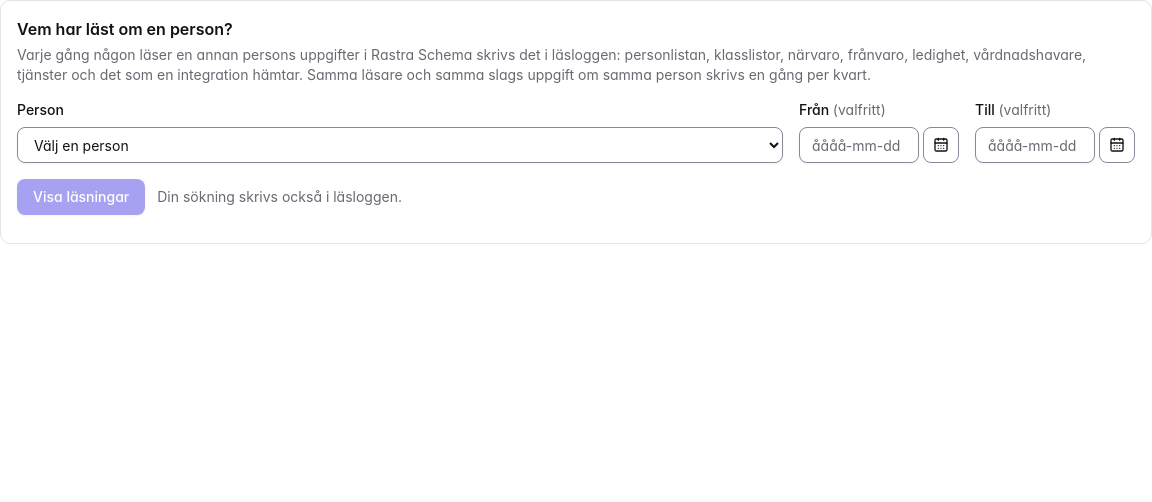
Test: Vem har läst om en person? › announces only the sentence: the table is outside the live region
Select "Ek, Ada" in the dropdown labelled "Person": [400, 145] box top-left (17, 127), bottom-right (783, 163)
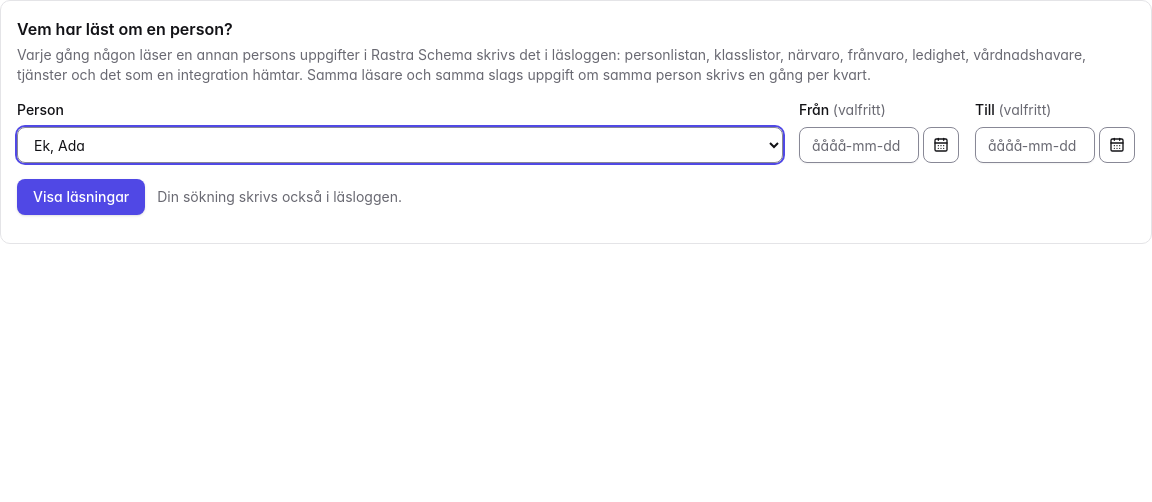
Click the button "Visa läsningar": [81, 197] box top-left (17, 179), bottom-right (145, 215)
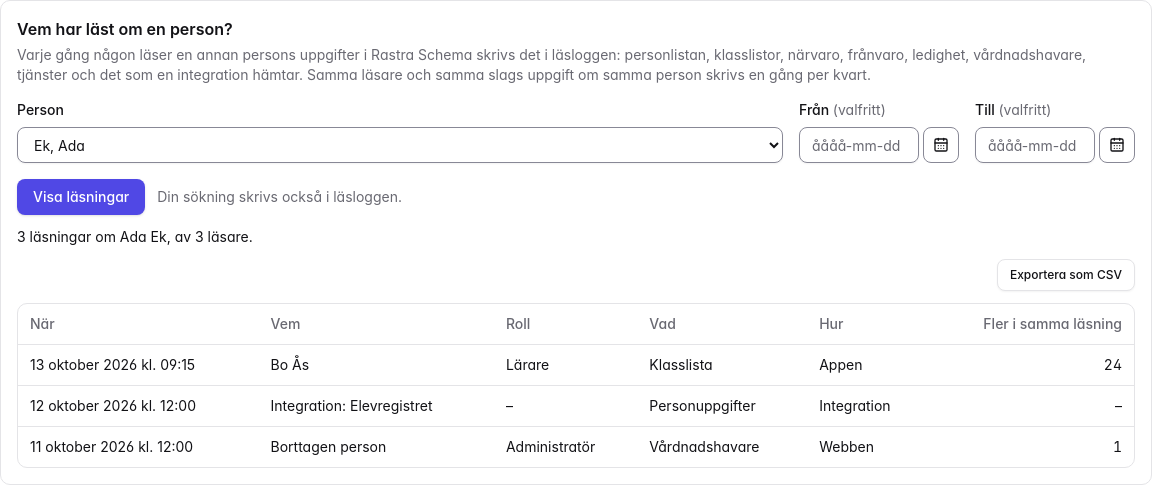
Expected: the text "3 läsningar om Ada Ek, av 3 läsare." is shown, top-left (17, 228), bottom-right (253, 245)
